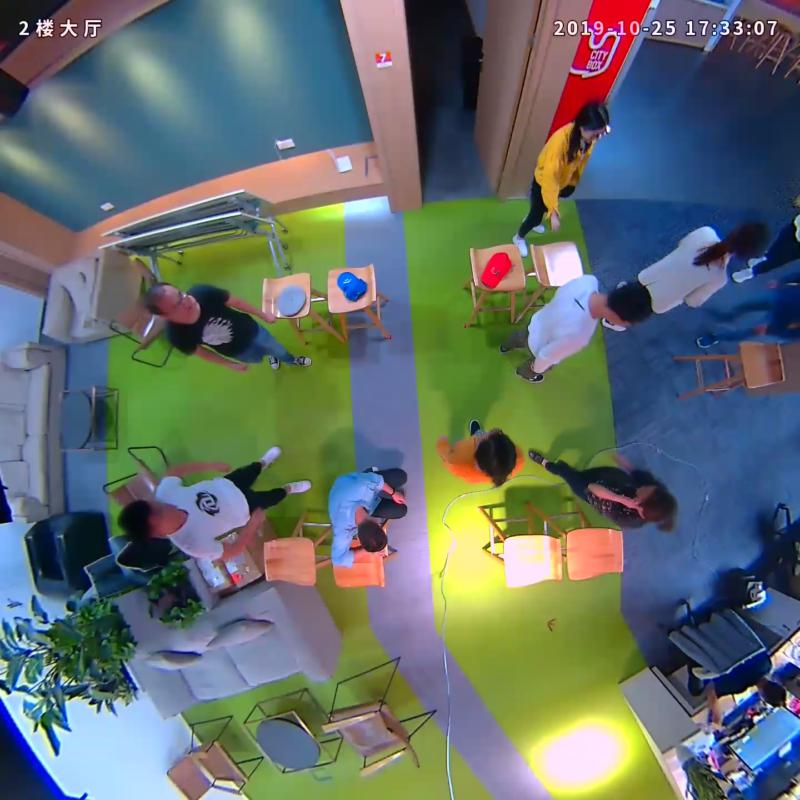head: (108, 493, 184, 544), (595, 278, 657, 337), (136, 278, 203, 330), (714, 214, 776, 268), (465, 428, 519, 489), (627, 478, 682, 532), (564, 96, 616, 152), (354, 519, 397, 566)
